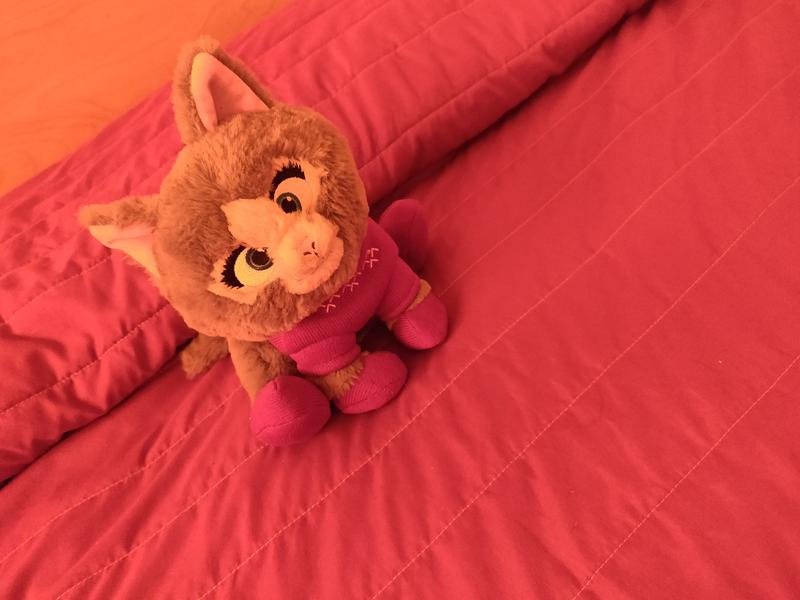kitten: (73, 19, 443, 451)
